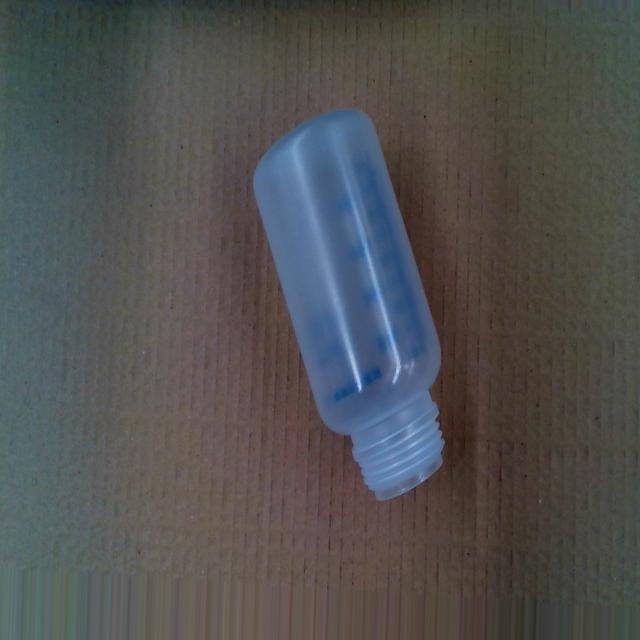bottle: (252, 105, 446, 508)
